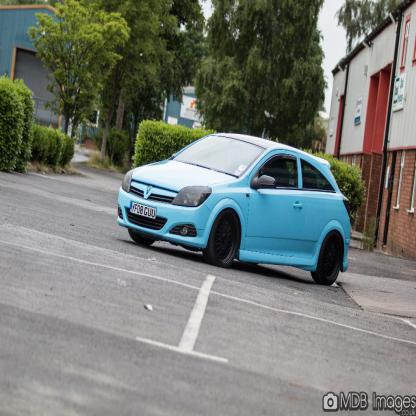Car: (116, 131, 354, 289)
